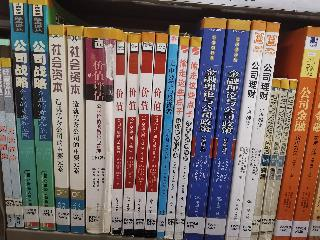book-spine: (178, 14, 229, 240), (269, 25, 320, 240), (203, 18, 251, 240), (234, 20, 282, 240), (225, 19, 267, 240), (77, 27, 115, 235), (8, 0, 39, 231), (27, 0, 55, 232), (171, 37, 202, 240), (142, 32, 169, 240), (248, 78, 281, 240), (257, 79, 290, 240), (164, 36, 190, 240), (266, 79, 298, 240), (117, 33, 142, 238), (132, 31, 156, 238), (156, 25, 179, 240), (48, 25, 71, 233), (1, 56, 24, 229), (109, 31, 128, 237), (66, 25, 84, 233)
